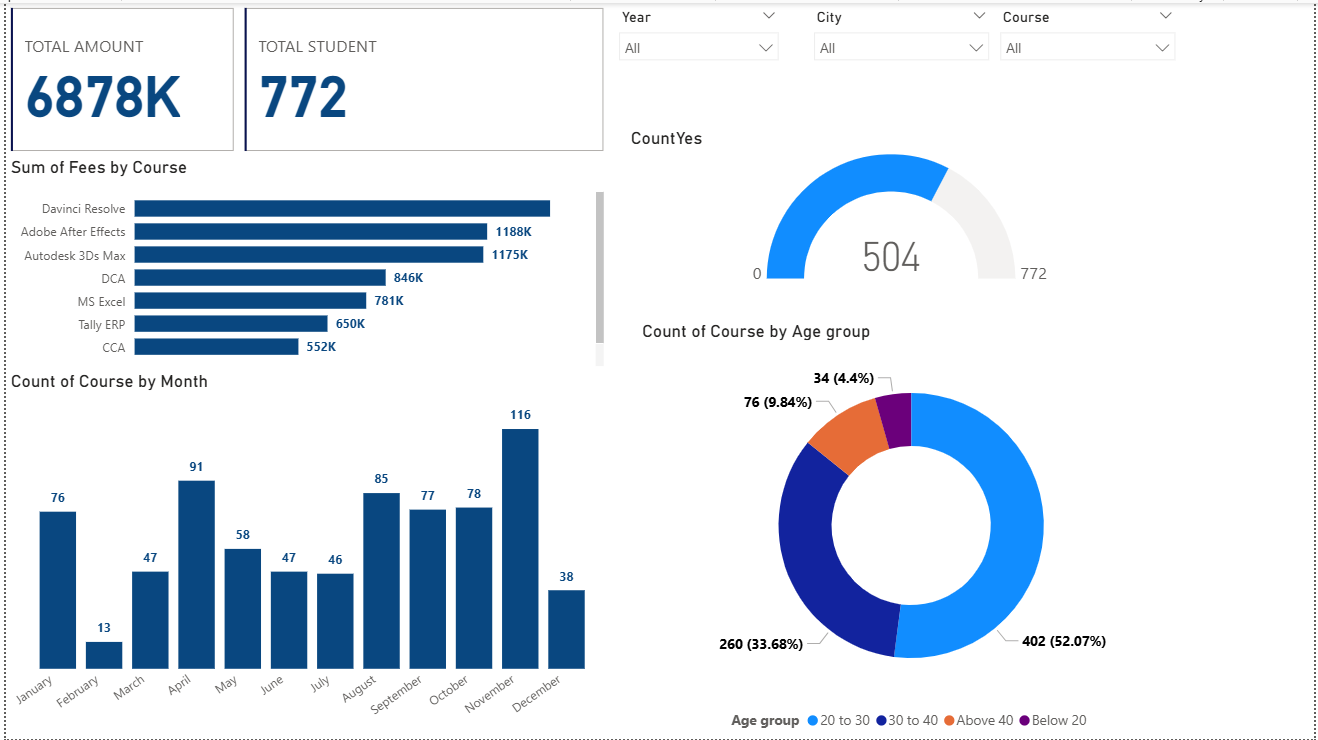

This screenshot's page, from the dashboard's own definition file:
{"tool":"powerbi","page":{"name":"Page 1","canvas":[1280,720],"ordinal":0},"visuals":[{"type":"clusteredColumnChart","fields":{"Category":["Student Course Details.Date of Join.Variation.Date Hierarchy.Year","Student Course Details.Date of Join.Variation.Date Hierarchy.Quarter","Student Course Details.Date of Join.Variation.Date Hierarchy.Month","Student Course Details.Date of Join.Variation.Date Hierarchy.Day"],"Y":["CountNonNull(Student Course Details.Course)"]},"box":[0,360,590,360],"z":0},{"type":"donutChart","fields":{"Y":["CountNonNull(Student Course Details.Course)"],"Category":["Student Course Details.Age group"]},"box":[617.5,310,536.2,410],"z":1000},{"type":"clusteredBarChart","fields":{"Category":["Student Course Details.Course"],"Y":["Sum(Student Course Details.Fees)"]},"box":[0,150,590,210],"z":2000},{"type":"cardVisual","title":"TOTAL AMOUNT","fields":{"Data":["Sum(Student Course Details.Fees)"]},"box":[0,0,228.8,150],"z":3000},{"type":"cardVisual","fields":{"Data":["CountNonNull(Student Course Details.Student Name)"]},"box":[229,0,361,150],"z":4000},{"type":"gauge","fields":{"Y":["personal details.CountYes"]},"box":[606.2,122.5,536.2,157.5],"z":5000},{"type":"slicer","fields":{"Values":["Student Course Details.Date of Join.Variation.Date Hierarchy.Year"]},"box":[590,0,176.2,98.8],"z":6000},{"type":"slicer","fields":{"Values":["personal details.City"]},"box":[780,0,191.2,98.8],"z":7000},{"type":"slicer","fields":{"Values":["Student Course Details.Course"]},"box":[962.5,0,191.2,98.8],"z":8000}]}

Visuals, with their boxes in screenshot pixels (x1, y1, x2, y2), scaled from the page's 1280x720 canvas onto the 1318x740 screenshot:
clusteredColumnChart - Student Course Details.Date of Join.Variation.Date Hierarchy.Year x Student Course Details.Date of Join.Variation.Date Hierarchy.Quarter: bbox=(0, 370, 608, 739)
donutChart - CountNonNull(Student Course Details.Course) x Student Course Details.Age group: bbox=(636, 319, 1188, 739)
clusteredBarChart - Student Course Details.Course x Sum(Student Course Details.Fees): bbox=(0, 154, 608, 370)
"TOTAL AMOUNT" cardVisual: bbox=(0, 0, 236, 154)
cardVisual - CountNonNull(Student Course Details.Student Name): bbox=(236, 0, 608, 154)
gauge - personal details.CountYes: bbox=(624, 126, 1176, 288)
slicer - Student Course Details.Date of Join.Variation.Date Hierarchy.Year: bbox=(608, 0, 789, 102)
slicer - personal details.City: bbox=(803, 0, 1000, 102)
slicer - Student Course Details.Course: bbox=(991, 0, 1188, 102)
